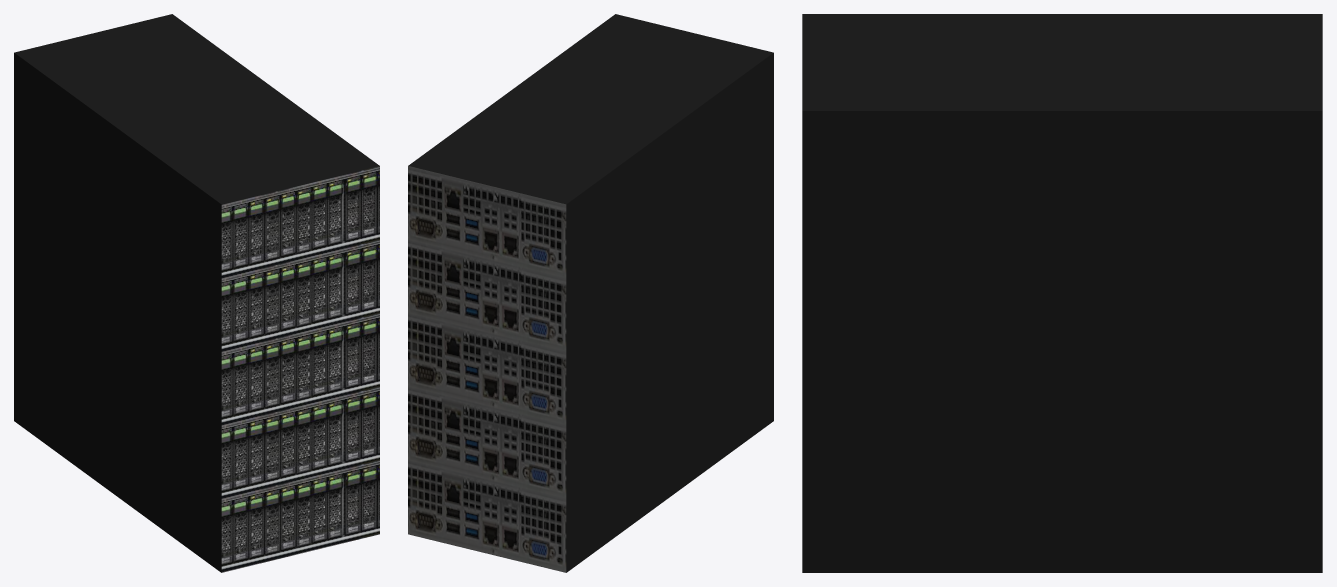
Rendered from ADS05.fbx.
The picture shows the model from 3 angles, left to right: view 1: azimuth 30°, elevation 25°; view 2: azimuth 150°, elevation 25°; view 3: azimuth 270°, elevation 25°; orthographic projection. The views are drawn at different scales.
Parts seen in each view (by area): view 1: ADS05; view 2: ADS05; view 3: ADS05.
Part boxes in pixels (left/top/right/bottom): ADS05: left=14, top=14, right=379, bottom=572; ADS05: left=408, top=14, right=773, bottom=572; ADS05: left=802, top=14, right=1322, bottom=572.
Size of the model in its own units: 100 by 222 by 227.
3 materials, 2 textured.
